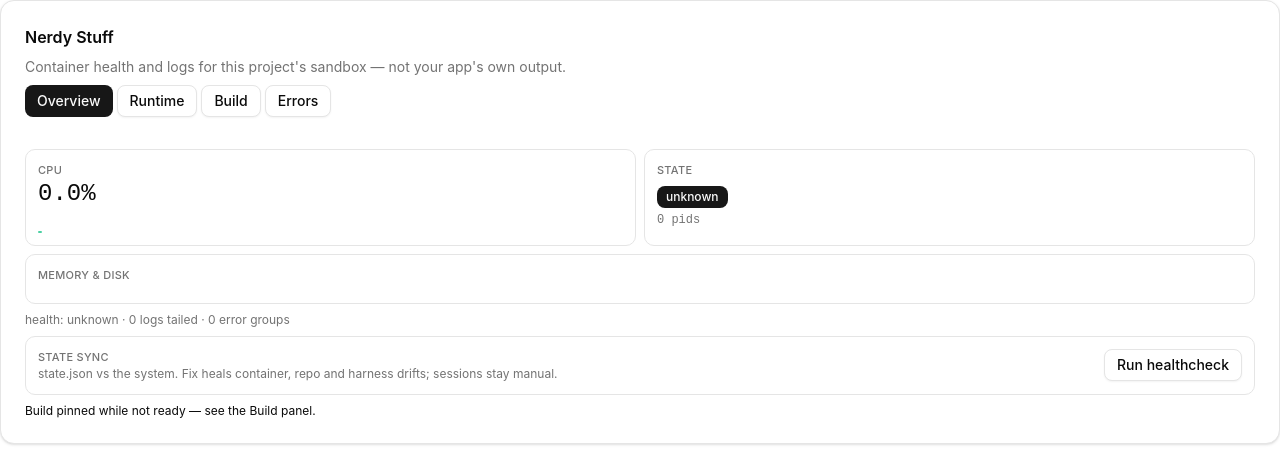
Scenario: NerdyStuffTab › expand shows JSON type and trace
Click the tab with test id "nerdy-panel-runtime". click: x=157, y=101
box: 116,85 -> 197,117
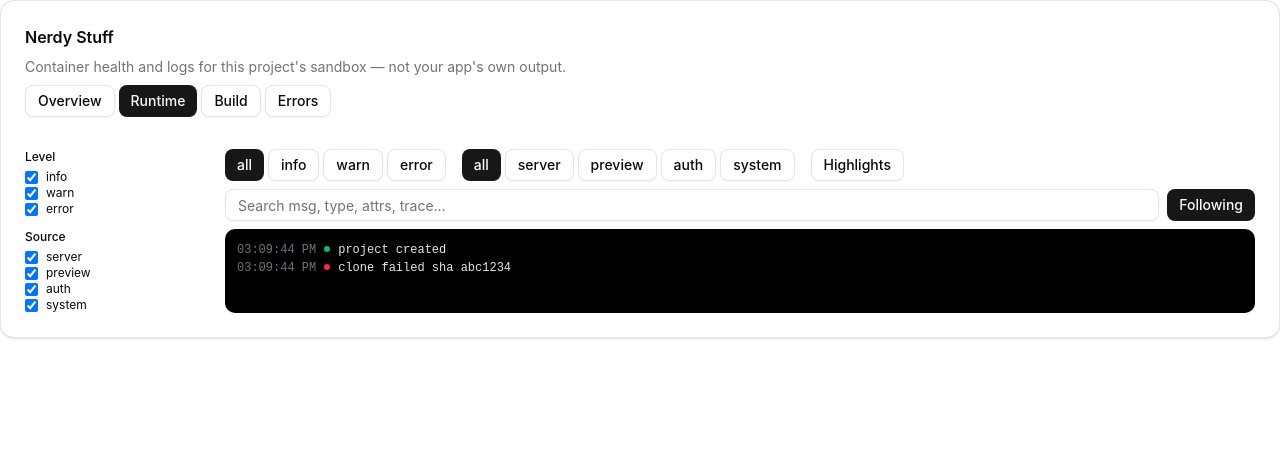
Expected: the element with test id "nerdy-list" is shown, 225,229 -> 1255,313
Click the element with test id "nerdy-row-toggle-2". click: x=374, y=268
box: 237,261 -> 511,275
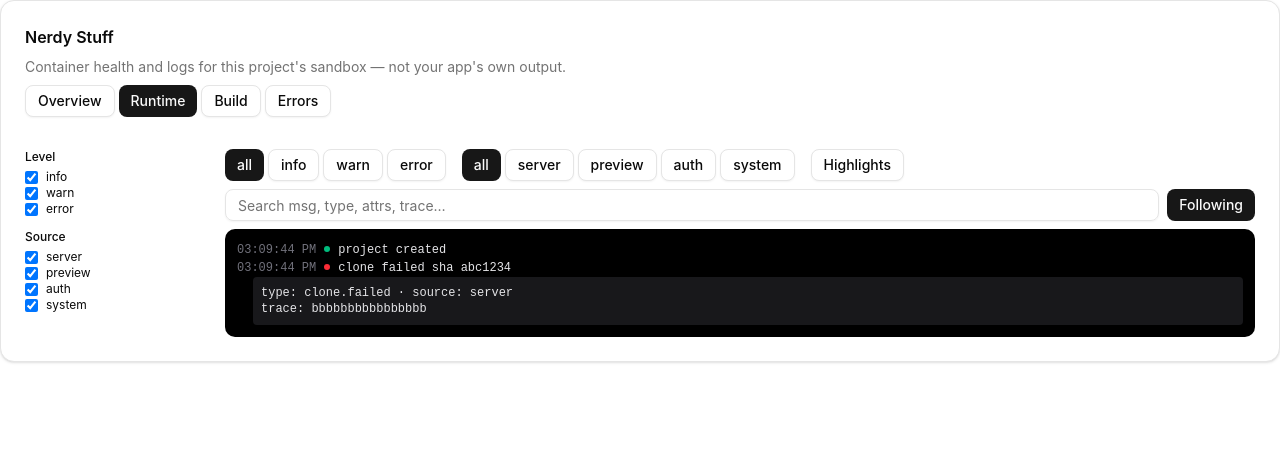
Expected: the element with test id "nerdy-expand-2" shows "clone.failed", 304,286 -> 391,300
Expected: the element with test id "nerdy-expand-2" shows "bbbbbbbbbbbbbbbb", 311,302 -> 427,316
